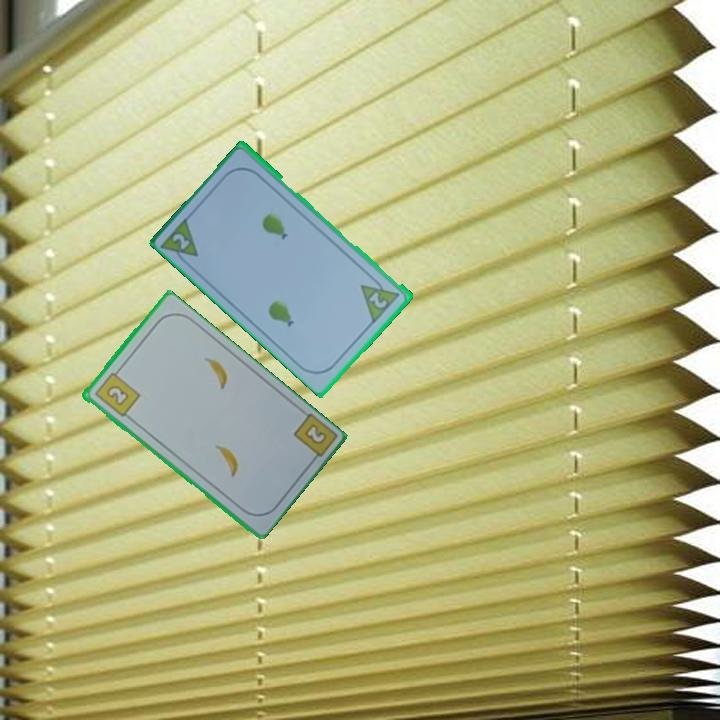2b: (91, 365, 142, 420), (289, 410, 338, 467)
2p: (169, 229, 193, 253), (366, 288, 390, 311)
